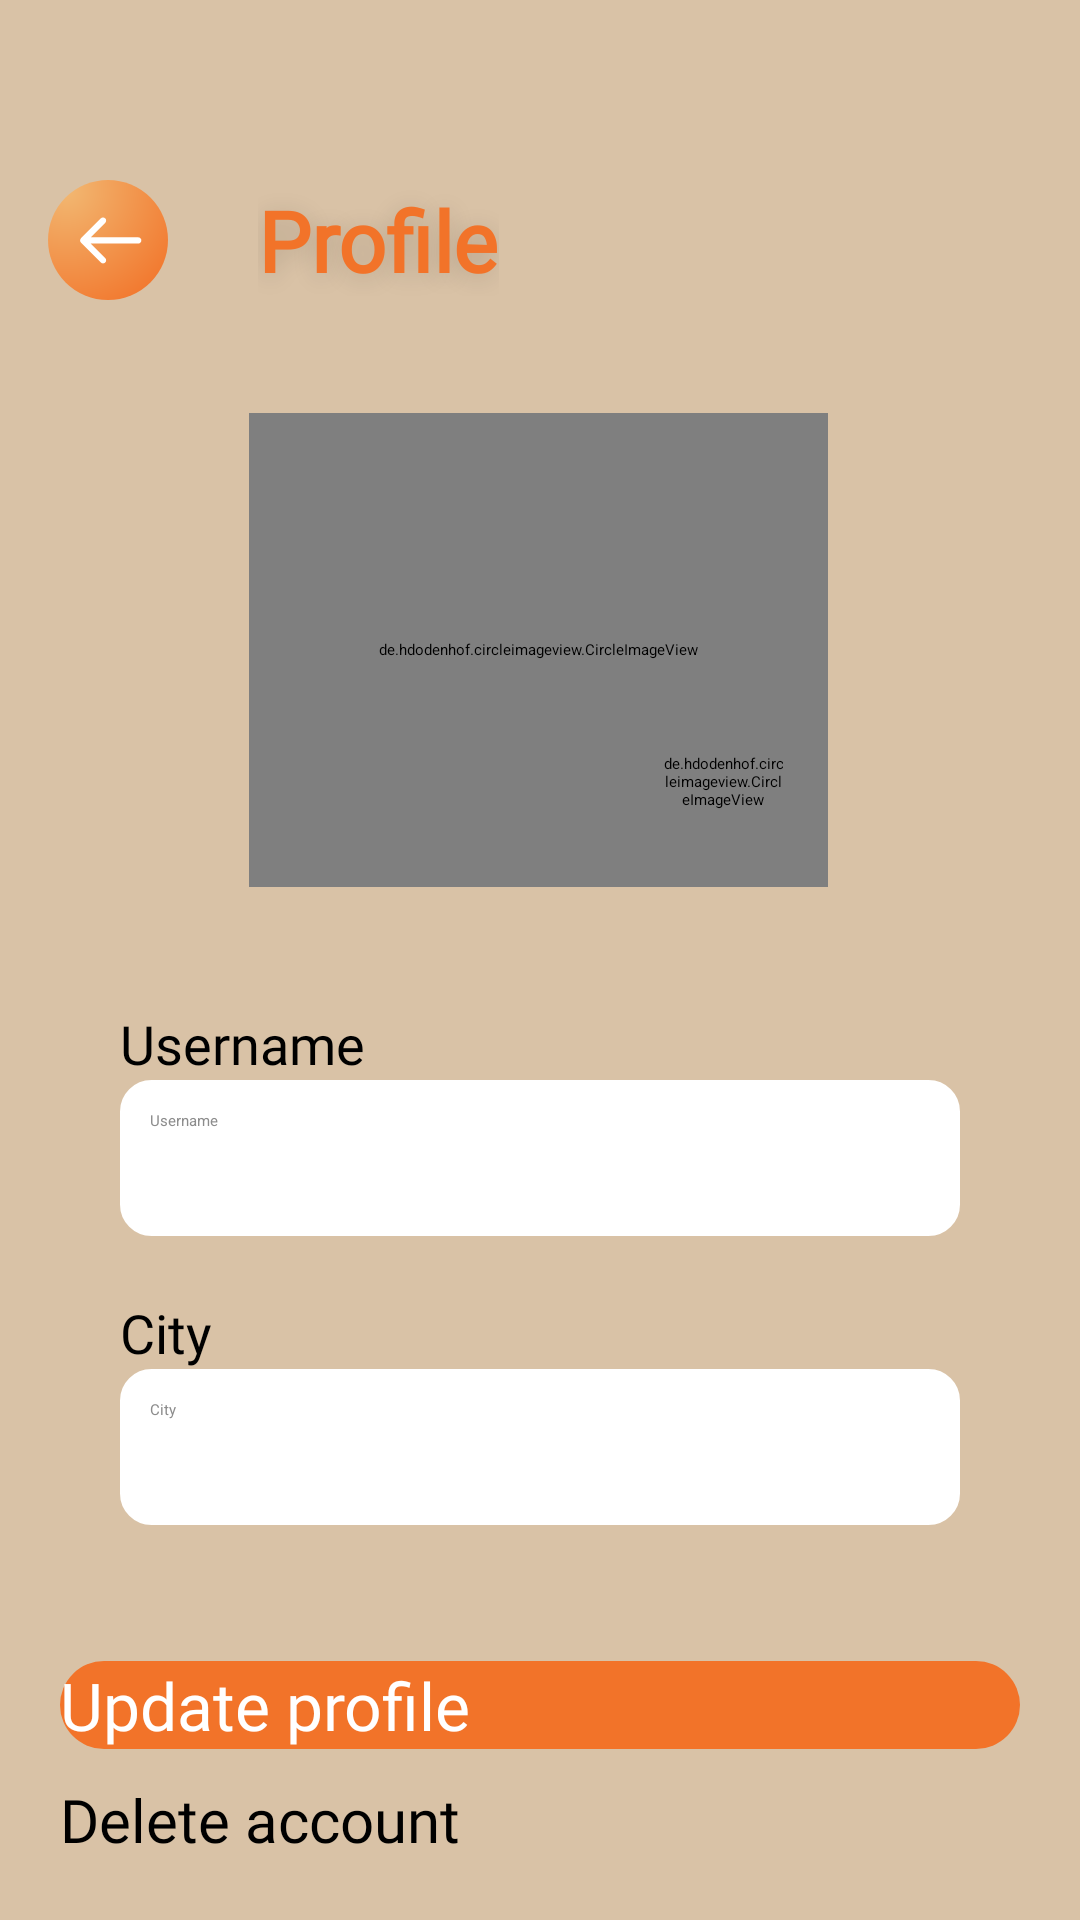

Screen size 1080 × 1920. Icon name, then its box in pixels as bbox(x1, y1, x2, y2):
back: bbox(48, 180, 168, 300)
